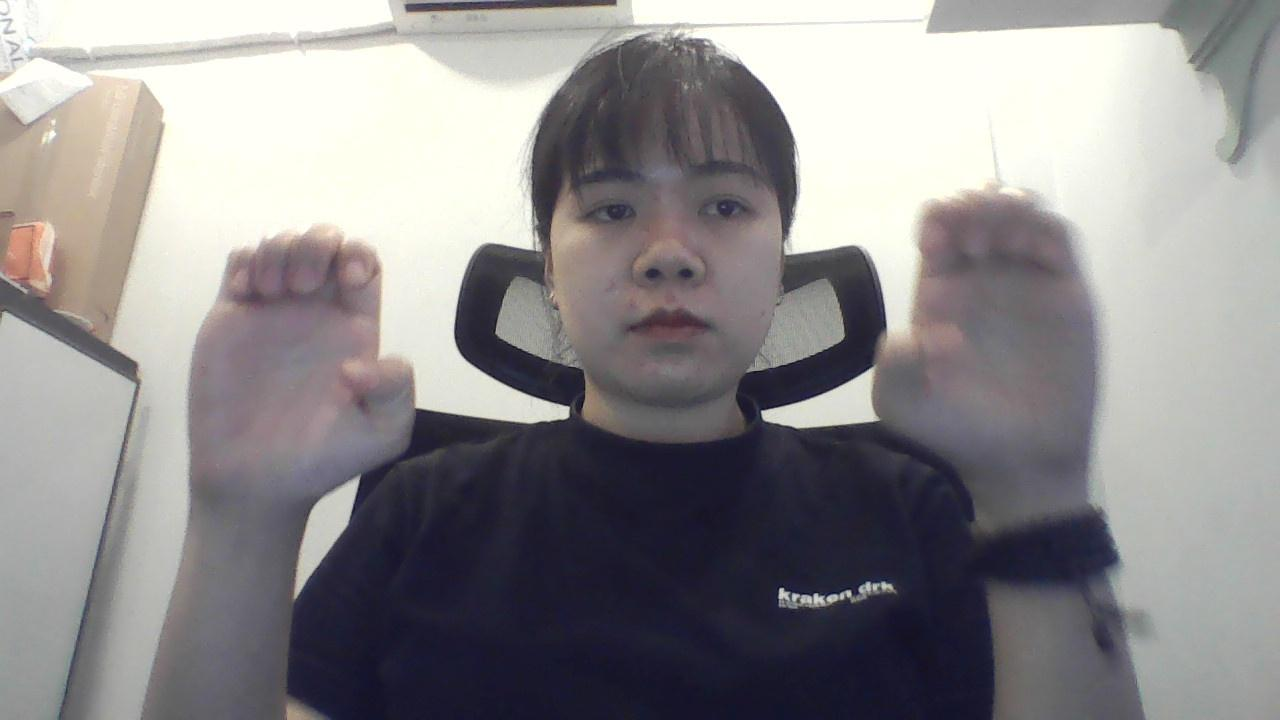E: (856, 170, 1116, 498), (179, 211, 433, 525)
